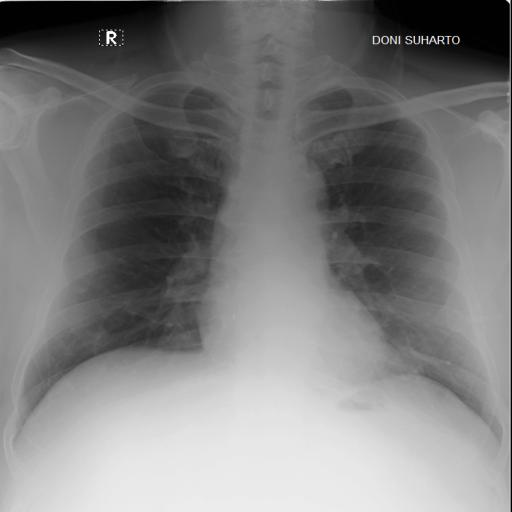normal: (4, 45, 506, 461)
